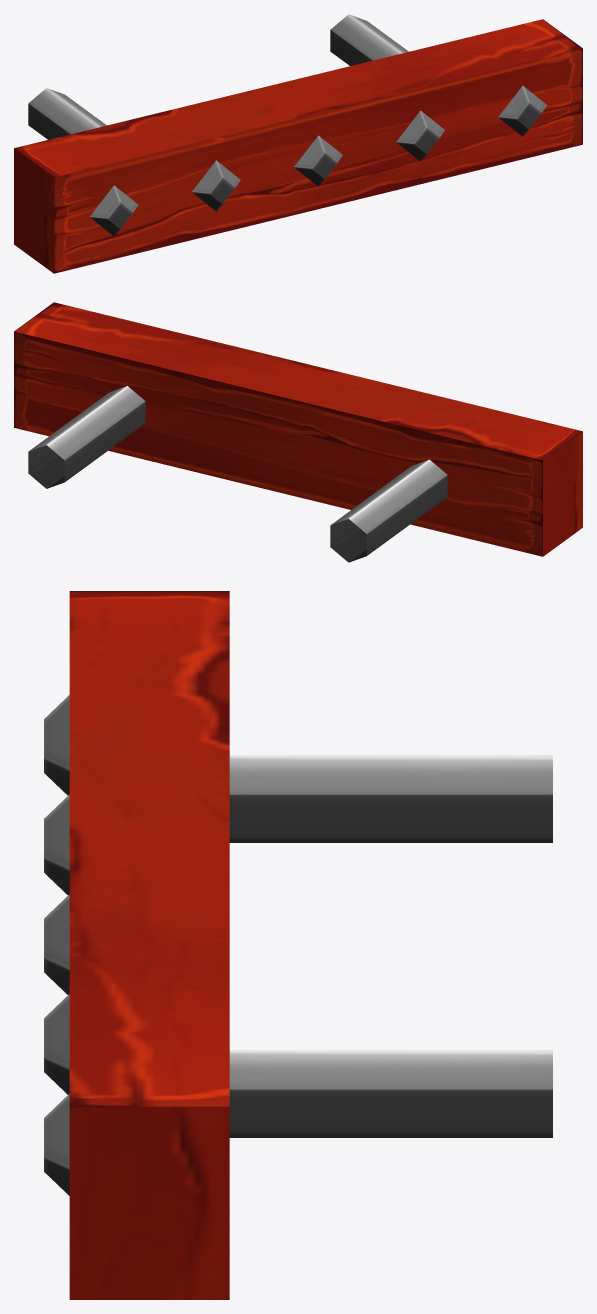
Rendered from wall_red_03.fbx.
3 views of the same model, one above another, from view 1: azimuth 30°, elevation 25°; view 2: azimuth 150°, elevation 25°; view 3: azimuth 270°, elevation 25° (orthographic). The views are drawn at different scales.
Visible parts, largest first — view 1: wall_7, spring_5, spring_4; view 2: wall_7, spring_4, spring_5; view 3: wall_7, spring_5, spring_4.
Boxes of the visible parts, box(x1,y1,x2,y2) form: wall_7: box(14, 19, 582, 273); spring_5: box(330, 14, 408, 65); spring_4: box(28, 88, 106, 139); wall_7: box(14, 302, 582, 556); spring_4: box(330, 459, 447, 562); spring_5: box(28, 386, 145, 488); wall_7: box(44, 591, 229, 1299); spring_5: box(229, 1050, 552, 1137); spring_4: box(229, 755, 552, 842).
Bounding box in the file's own units: 230 × 40 × 95.87.
